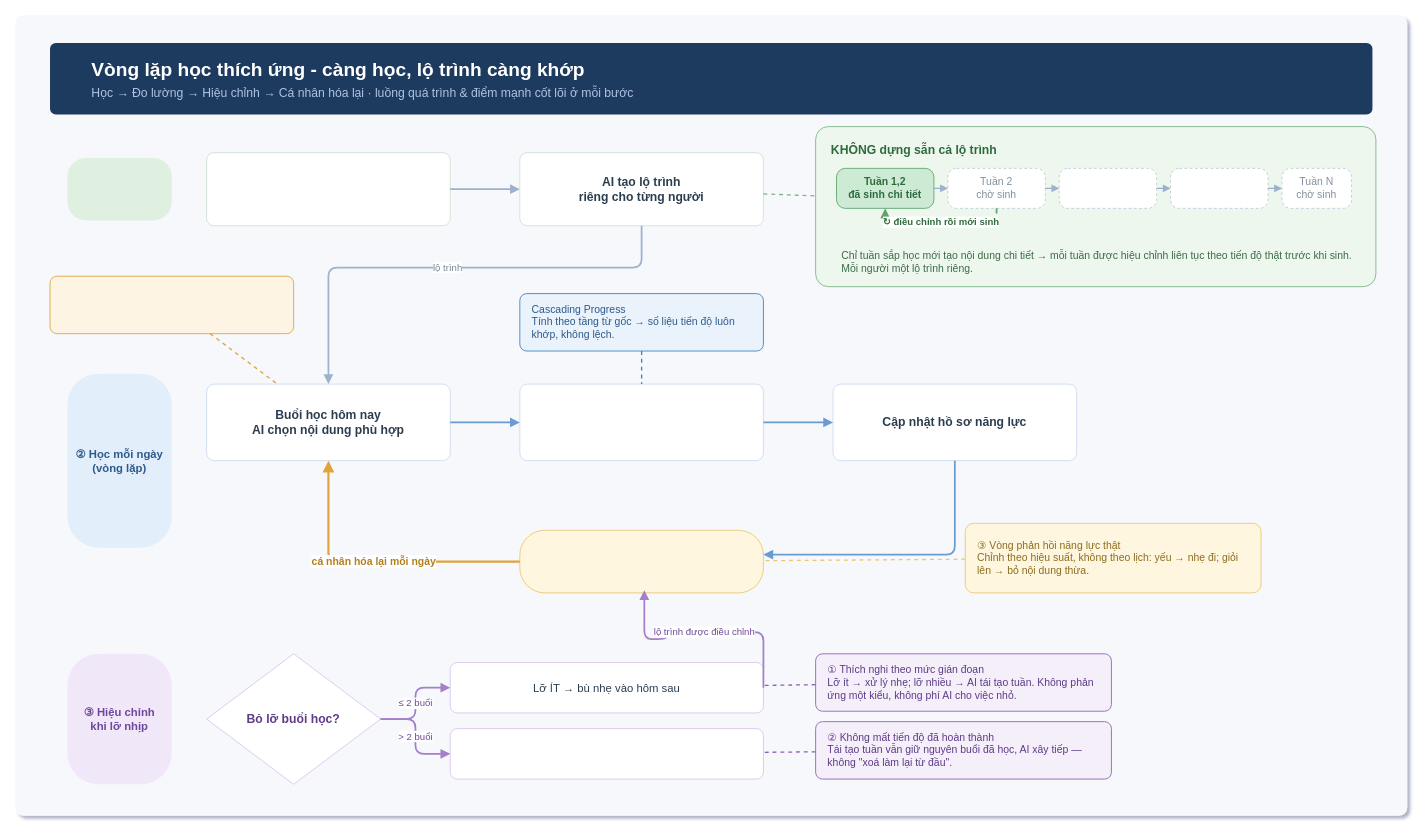
This 1427x835 diagram has some shape labels left out. Here are the shapes that lost their labels. From the top down, the box of each, then its label:
(67, 157, 171, 220): ① Đầu vào
(206, 152, 450, 226): 🎯 Test đầu vào Phân tích chuyên sâu Đánh giá trình độ thật
(1058, 167, 1157, 208): Tuần 3 chờ sinh
(1170, 167, 1268, 208): Tuần … chờ sinh
(49, 275, 294, 334): Có ưu tiên nội dung quan trọng/ nội dung có thể skip
(519, 383, 763, 461): Học + Tracking Đo tiến độ chi tiết
(519, 529, 763, 593): 💡 Hồ sơ năng lực học viên điểm mạnh / yếu từng kỹ năng
(449, 728, 763, 779): Lỡ NHIỀU → AI tái tạo cả tuần (giữ nguyên phần đã học)
